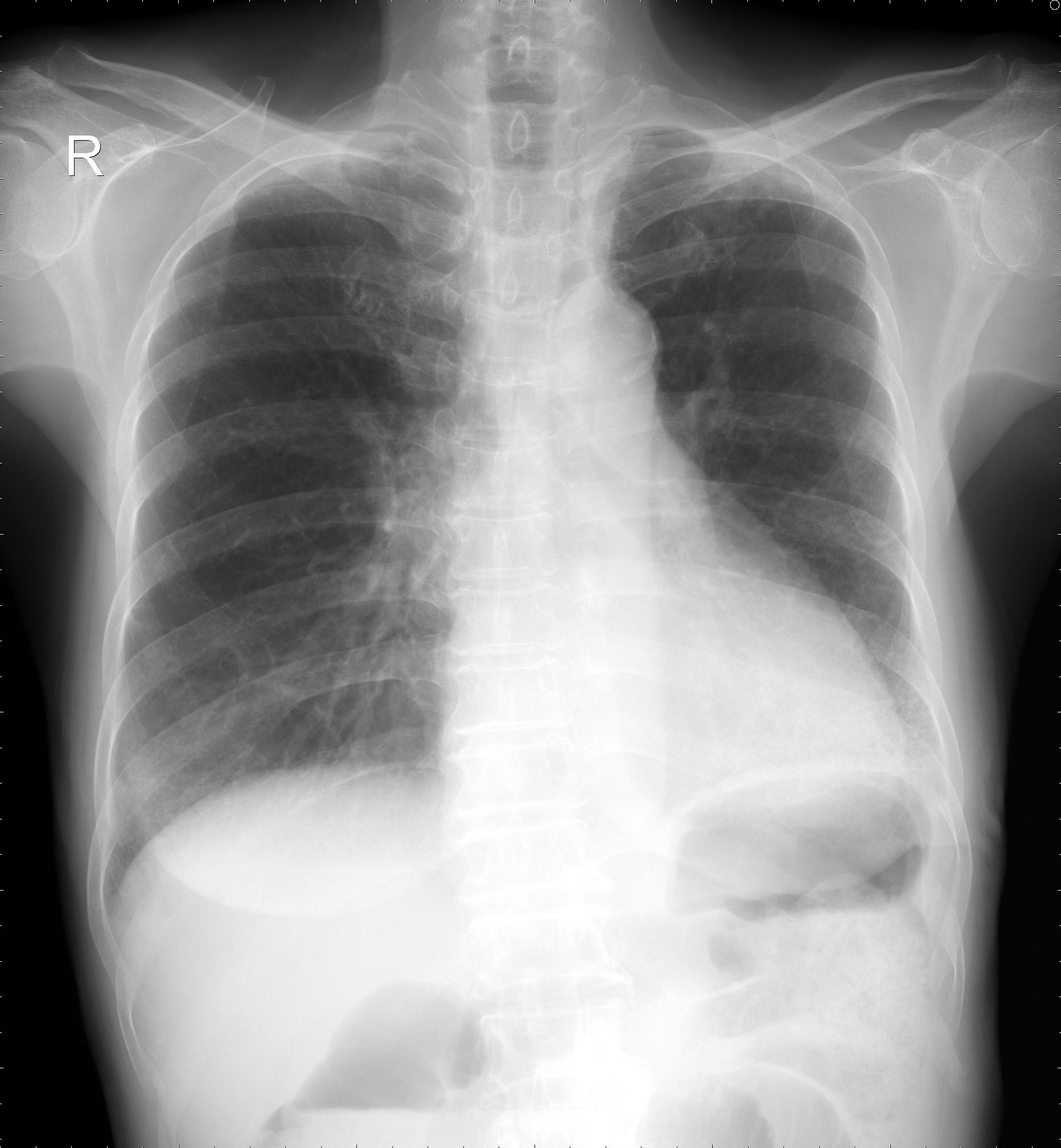Aortic enlargement: (545, 275, 663, 410)
Cardiomegaly: (420, 658, 908, 790)
Pleural thickening: (243, 122, 450, 176), (587, 124, 671, 188)
